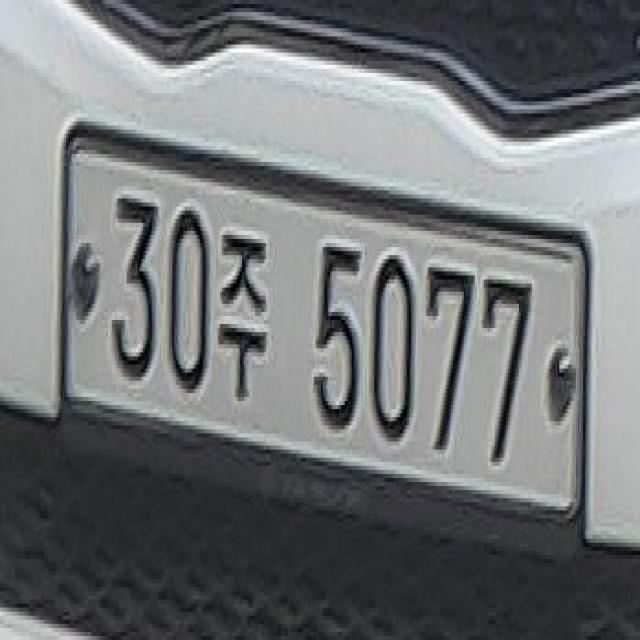0: (165, 194, 213, 389), (369, 251, 416, 450)
3: (108, 190, 162, 393)
5: (310, 227, 361, 437)
7: (480, 263, 536, 470), (420, 251, 475, 454)
ju: (216, 219, 272, 409)
license_plate: (62, 134, 589, 526)
